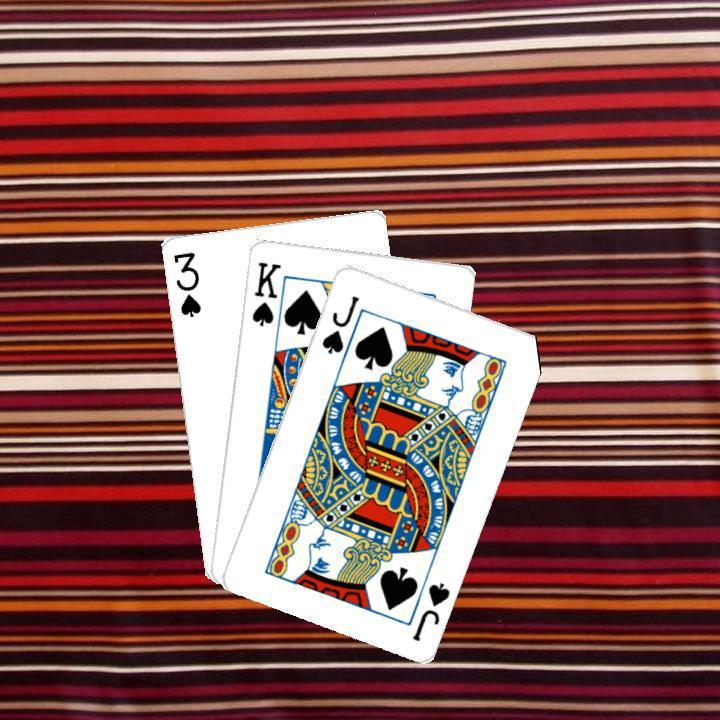3: (168, 247, 203, 319)
J: (407, 578, 452, 643), (317, 291, 361, 356)
K: (247, 256, 282, 328)
